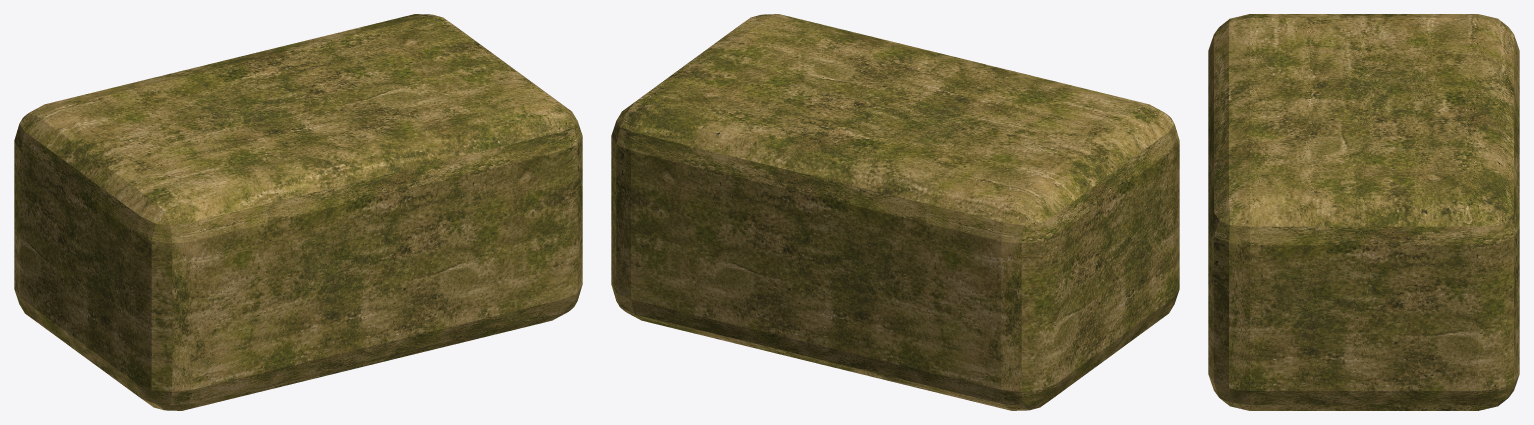
File: BriquePierreVerte.glb
3 views of the same model, side by side, from view 1: azimuth 30°, elevation 25°; view 2: azimuth 150°, elevation 25°; view 3: azimuth 270°, elevation 25° (orthographic).
Parts seen in each view (by area): view 1: BriquePierre; view 2: BriquePierre; view 3: BriquePierre.
Part boxes in pixels (x1=…): BriquePierre: x1=14, y1=14, x2=582, y2=410; BriquePierre: x1=611, y1=14, x2=1179, y2=410; BriquePierre: x1=1208, y1=14, x2=1519, y2=410.
Bounding box in the file's own units: 8.5 × 3.96 × 5.29.
1 material, 1 textured.
